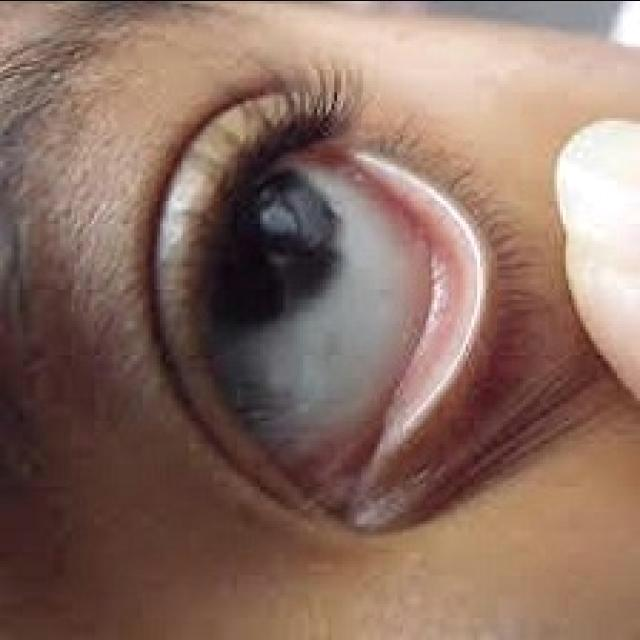conjunctiva_pallor: (340, 151, 476, 449)
